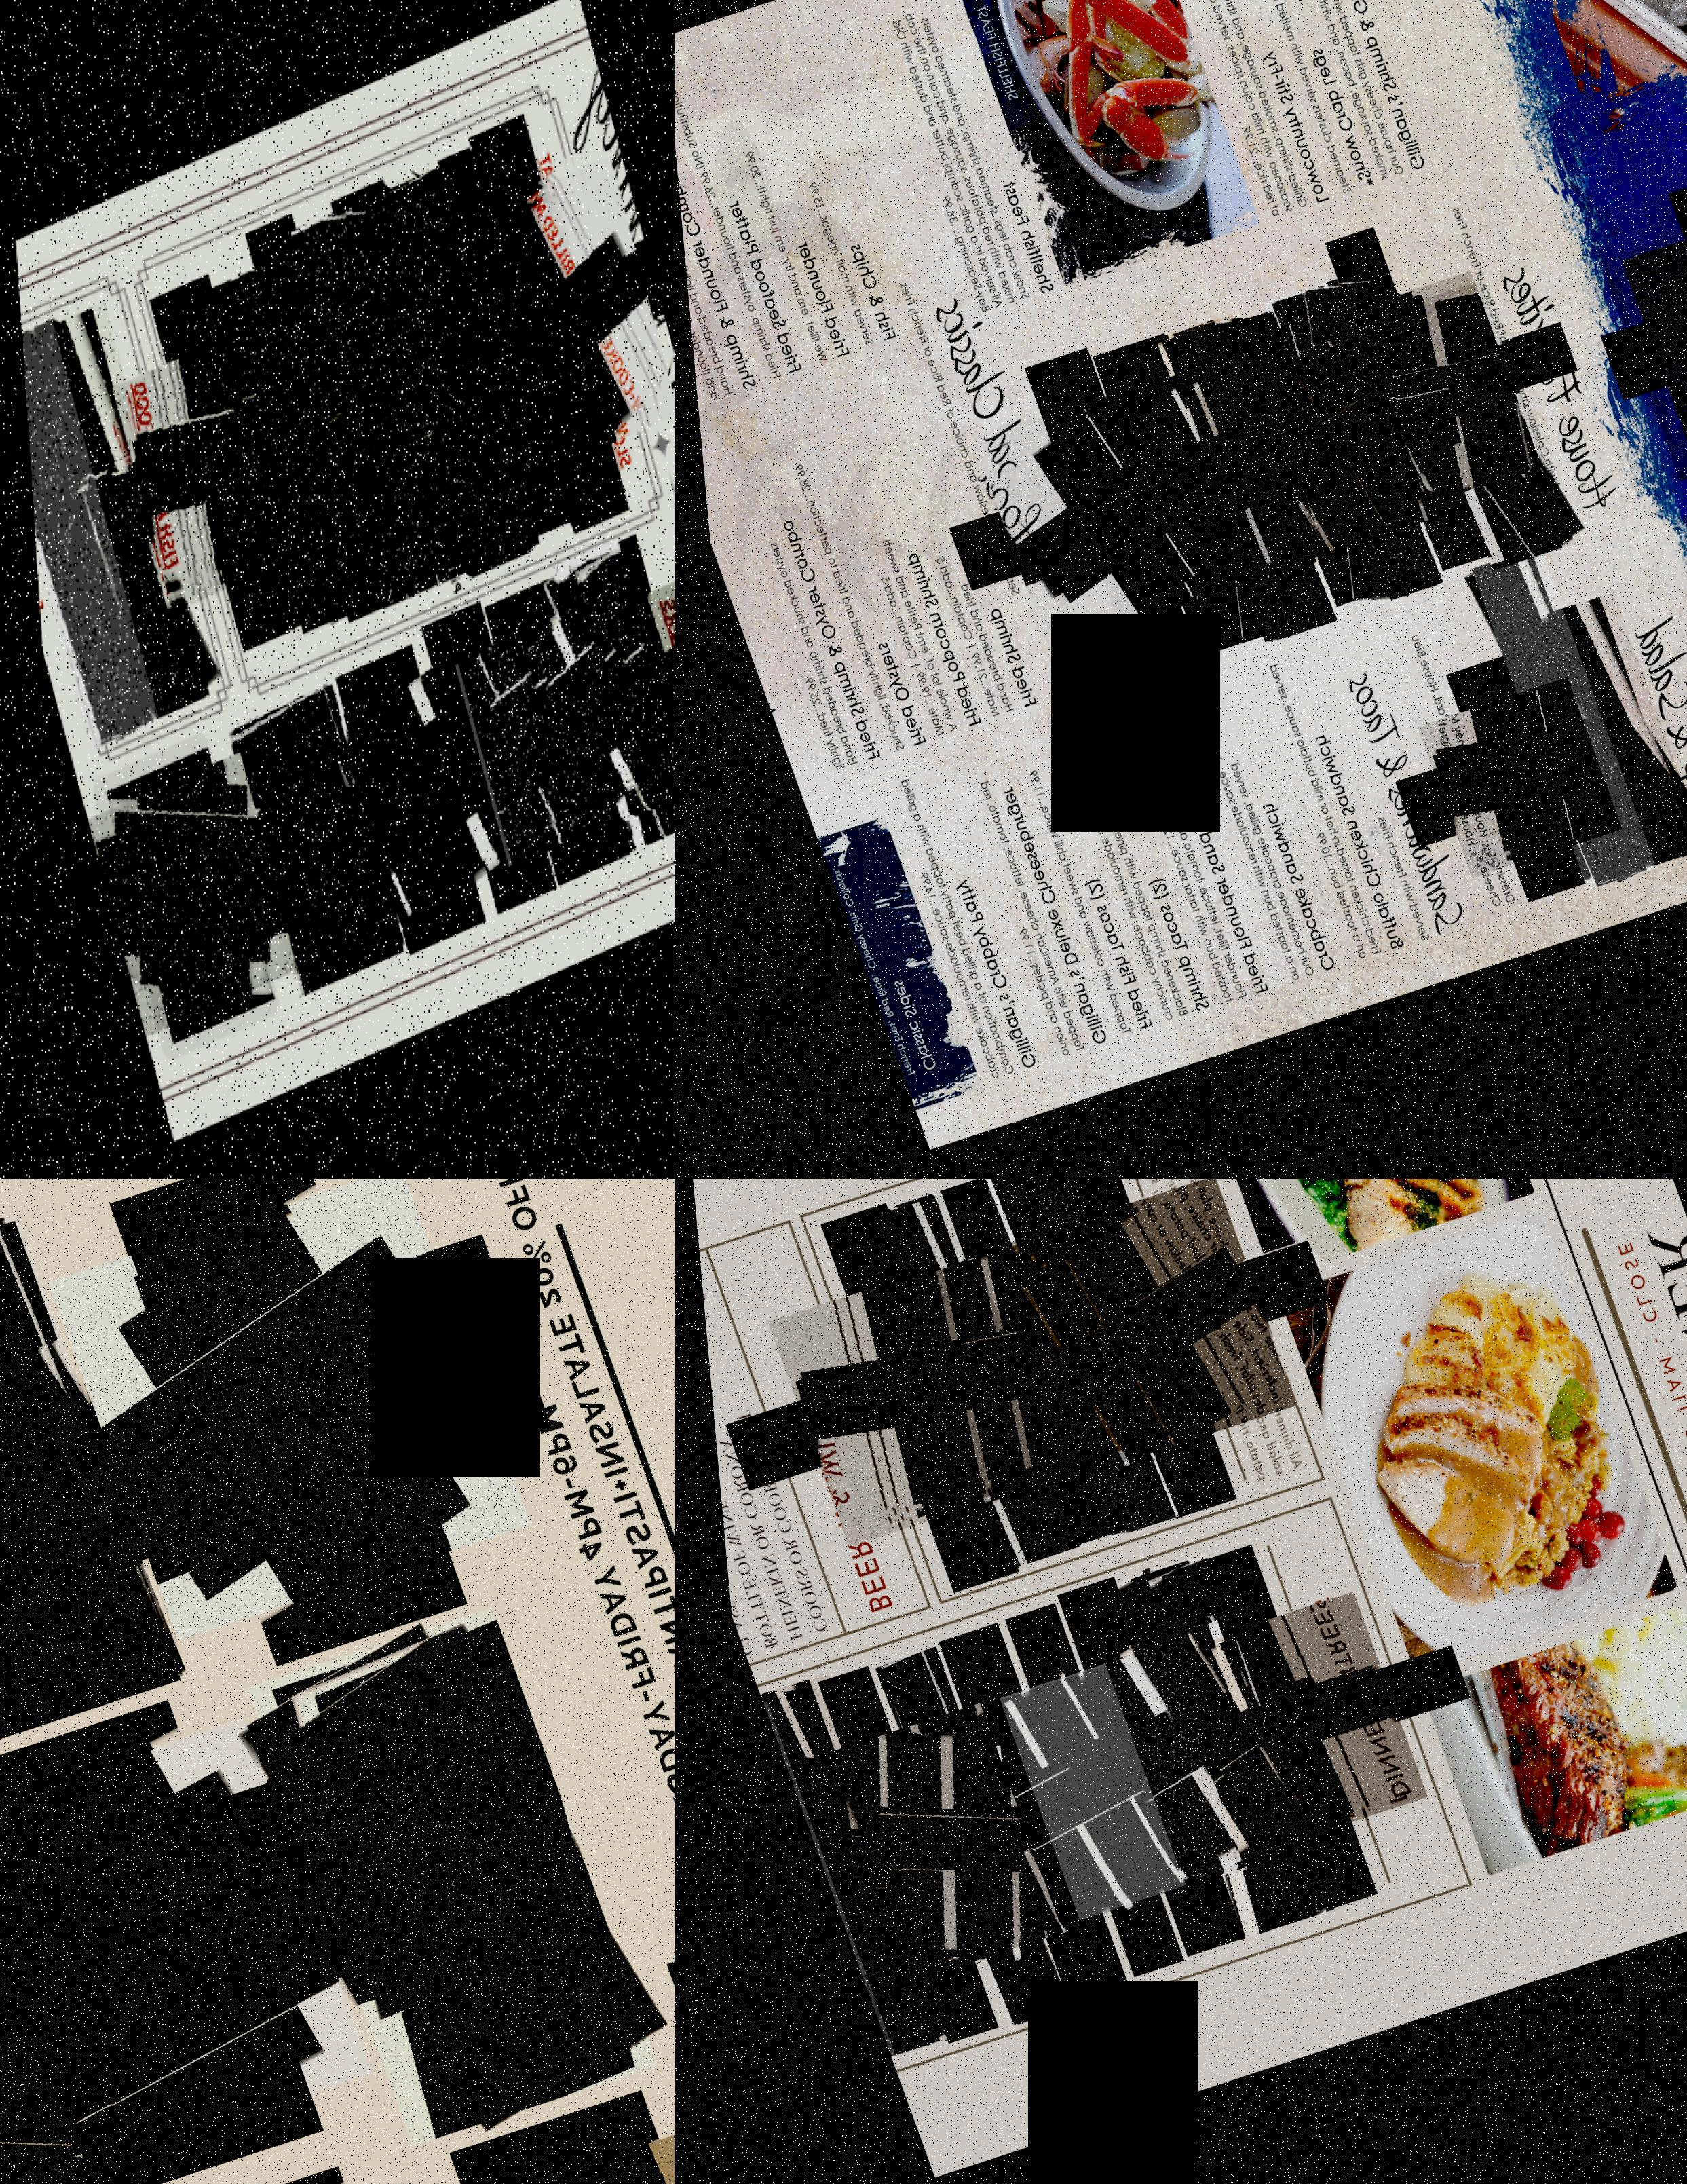Menu-Items: (30, 1179, 523, 1656), (227, 1615, 640, 2163), (0, 1723, 356, 2184), (973, 1179, 1288, 1487), (0, 1216, 174, 1774), (975, 1617, 1290, 1923), (858, 1663, 1170, 1966), (755, 1250, 1063, 1551), (409, 156, 675, 505), (923, 1645, 1228, 1943), (1095, 1551, 1315, 1948), (872, 1220, 1170, 1509), (275, 222, 528, 555), (766, 1704, 1046, 2000), (968, 1179, 1182, 1548), (21, 292, 200, 734), (1129, 1595, 1412, 1870), (868, 1186, 1067, 1578), (742, 1670, 939, 2062), (953, 378, 1233, 651), (193, 264, 432, 580), (370, 195, 610, 509), (358, 163, 532, 590), (859, 1643, 1046, 2033), (1028, 369, 1301, 633), (1256, 275, 1526, 537), (273, 204, 441, 619), (101, 314, 331, 615), (1136, 314, 1333, 654), (1248, 278, 1441, 617), (1451, 551, 1632, 904), (193, 262, 354, 649), (1164, 342, 1416, 587), (74, 752, 287, 1041), (211, 675, 392, 1003), (292, 667, 503, 943), (439, 601, 649, 876), (16, 316, 147, 753), (852, 755, 1021, 1090), (376, 629, 579, 897), (1090, 681, 1248, 1021), (1219, 647, 1380, 975), (758, 427, 914, 766), (1380, 284, 1558, 581), (1031, 723, 1194, 1033), (707, 496, 868, 787), (1166, 709, 1324, 1003), (936, 771, 1088, 1071), (1524, 599, 1682, 885), (539, 542, 675, 865), (994, 752, 1134, 1057), (1391, 686, 1600, 888), (675, 64, 797, 395), (836, 502, 973, 757), (718, 124, 849, 379), (900, 530, 1035, 741), (565, 580, 675, 794), (675, 83, 748, 404), (787, 158, 895, 365), (1604, 218, 1687, 463)
